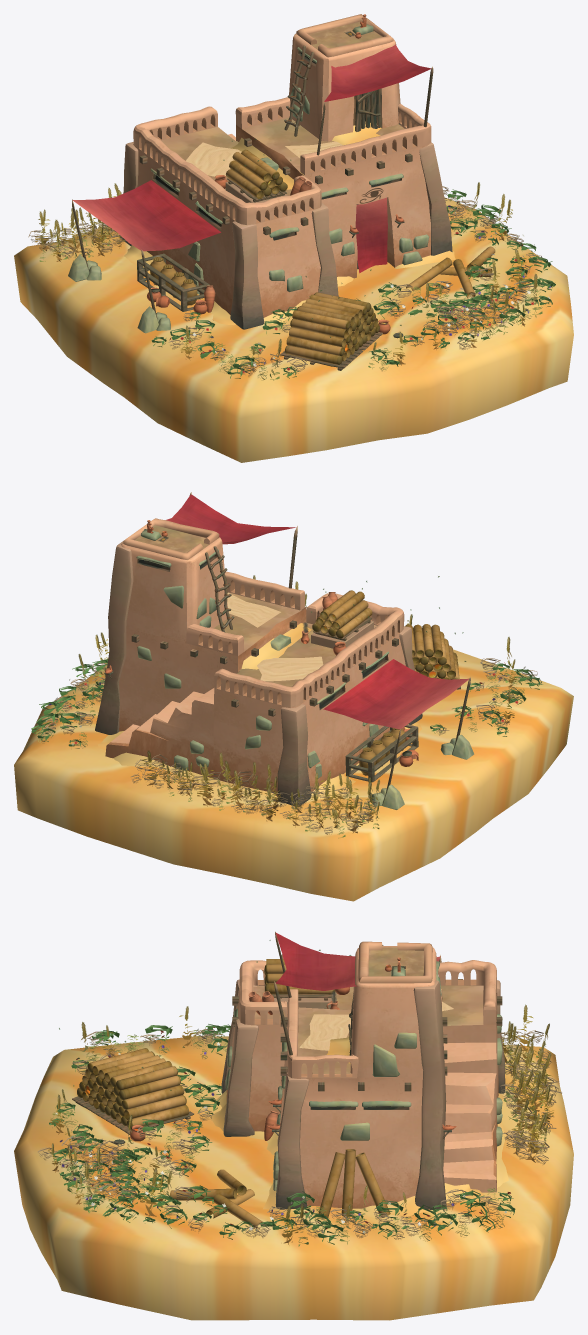
File: bee-gypt.glb
The picture shows the model from 3 angles, top to bottom: view 1: azimuth 30°, elevation 25°; view 2: azimuth 150°, elevation 25°; view 3: azimuth 270°, elevation 25°; orthographic projection. The views are drawn at different scales.
Visible parts, largest first — view 1: building_Material #4_0, flowers_Material #5_0; view 2: building_Material #4_0, flowers_Material #5_0; view 3: building_Material #4_0, flowers_Material #5_0.
Part boxes in pixels (left/top/right/bottom): building_Material #4_0: left=14, top=14, right=573, bottom=462; flowers_Material #5_0: left=28, top=182, right=555, bottom=380; building_Material #4_0: left=14, top=492, right=573, bottom=901; flowers_Material #5_0: left=31, top=575, right=542, bottom=838; building_Material #4_0: left=14, top=931, right=573, bottom=1320; flowers_Material #5_0: left=38, top=1004, right=561, bottom=1246.
Bounding box in the file's own units: 193 × 121 × 202.
Materials: 2 (2 with a texture image).
